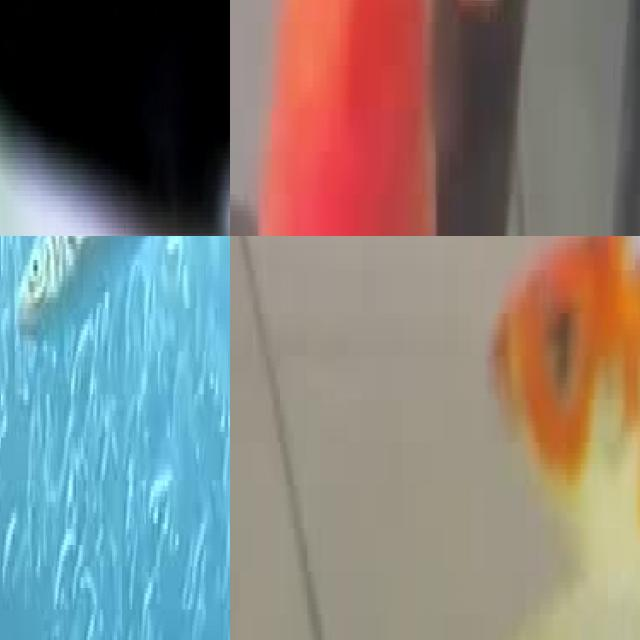fish: (0, 0, 230, 236), (363, 501, 640, 640)
